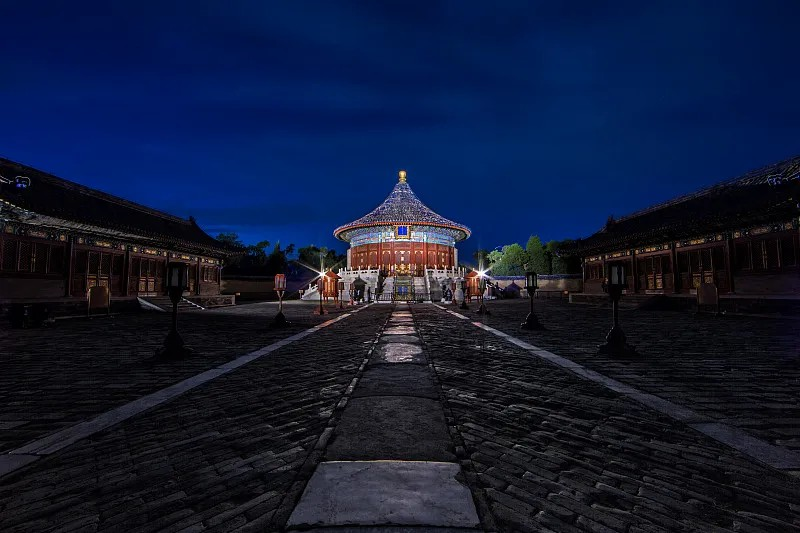Heaven: (330, 170, 472, 277)
